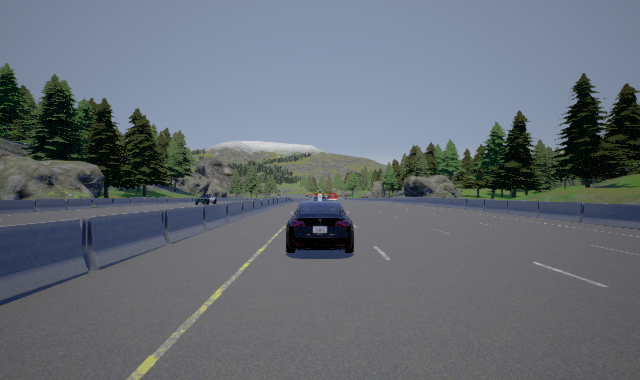vehicle: (285, 199, 354, 253)
